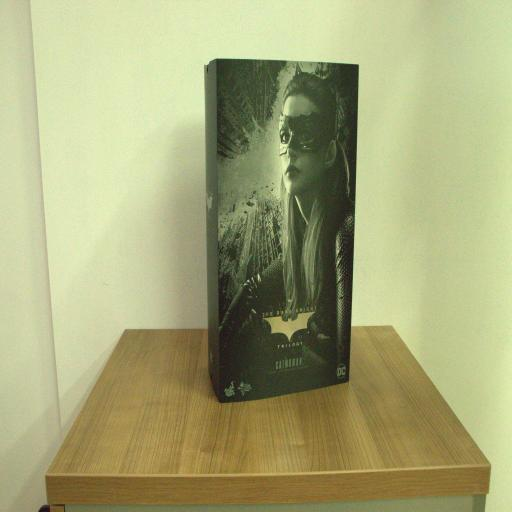catwoman: (204, 57, 360, 406)
